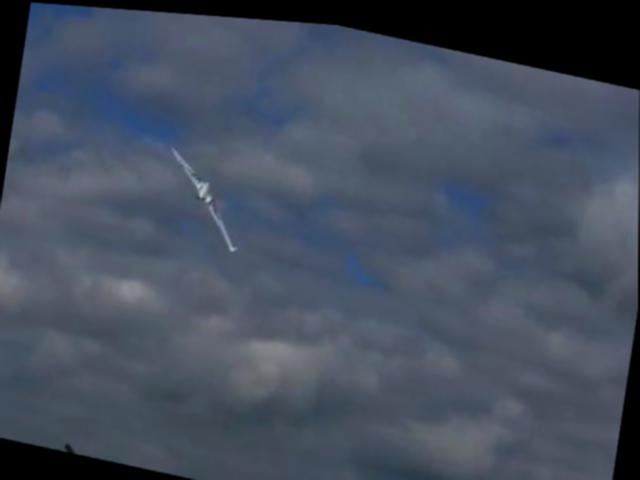flying wing: (151, 135, 256, 257)
